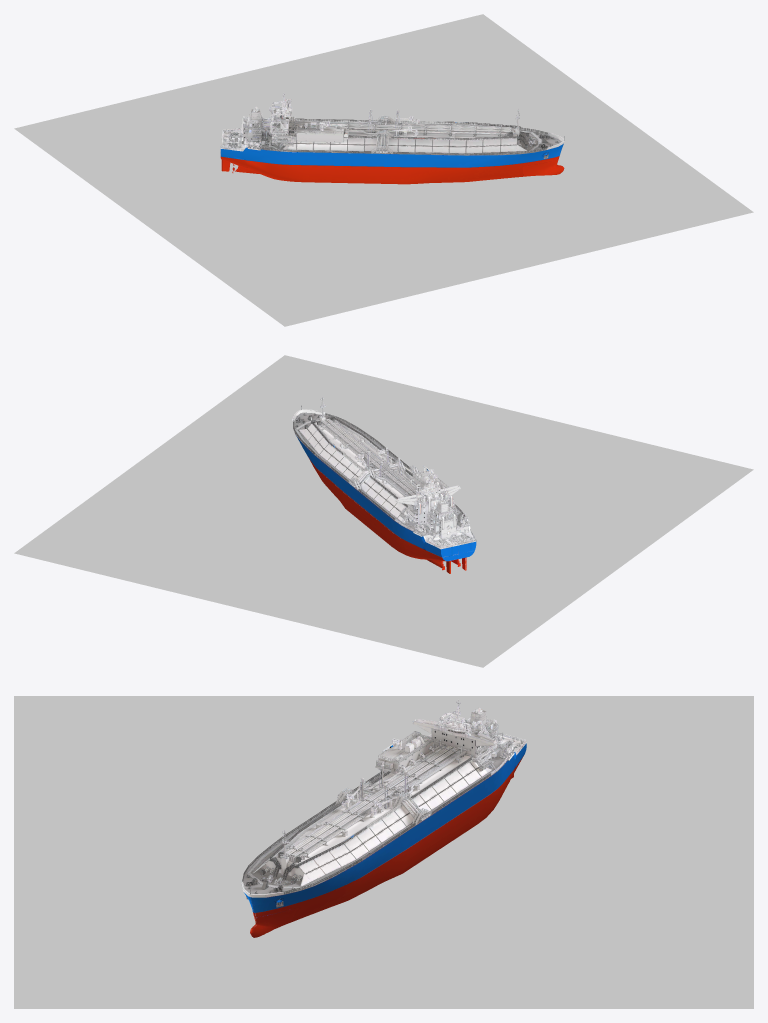
File: ship-ocean.glb
3 renders of one model, top to bottom at view 1: azimuth 30°, elevation 25°; view 2: azimuth 150°, elevation 25°; view 3: azimuth 270°, elevation 25°, orthographic. The views are drawn at different scales.
Parts seen in each view (by area): view 1: ocean, carrier; view 2: ocean, carrier; view 3: ocean, carrier.
Boxes of the visible parts, <box> form: ocean: <box>14,14,753,326</box>; carrier: <box>220,92,564,184</box>; ocean: <box>14,355,753,667</box>; carrier: <box>292,396,476,573</box>; ocean: <box>14,696,753,1008</box>; carrier: <box>240,699,526,937</box>.
Size of the model in its own units: 43.72 by 7.59 by 43.72.
3 materials, 3 textured.
